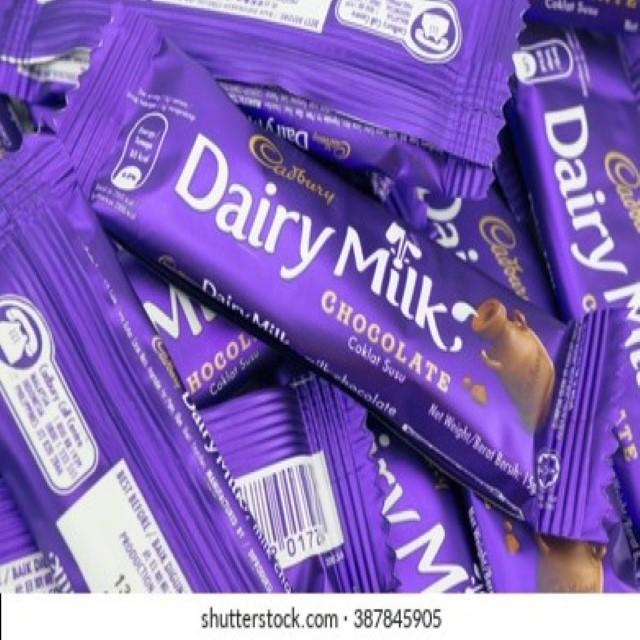cadbury_chocolate: (40, 15, 625, 563), (497, 32, 640, 510)
